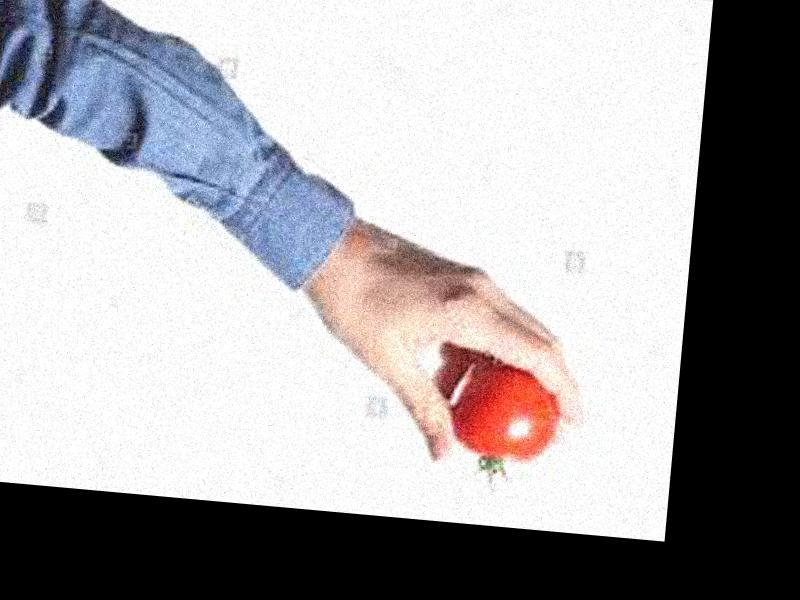Tomato: (452, 365, 563, 462)
